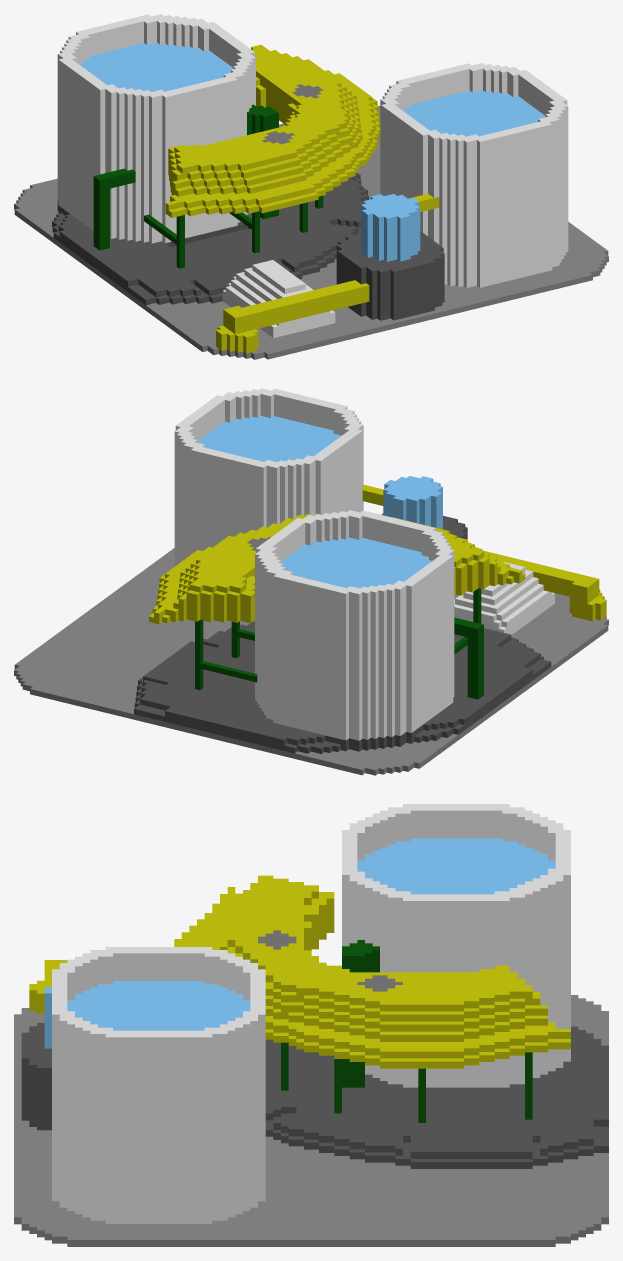
The model's file is GDIPowerPlant.obj.
3 views of the same model, one above another, from view 1: azimuth 30°, elevation 25°; view 2: azimuth 150°, elevation 25°; view 3: azimuth 270°, elevation 25° (orthographic). The views are drawn at different scales.
Size of the model in its own units: 7.8 by 3 by 7.8.
1 material, 1 textured.
